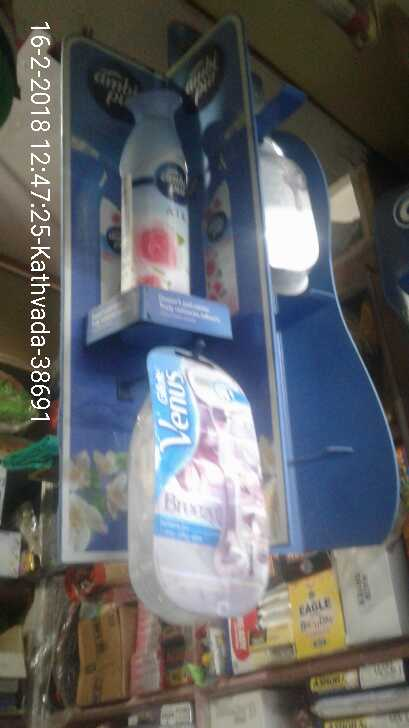beauty: (137, 341, 275, 621)
home: (113, 74, 197, 299)
